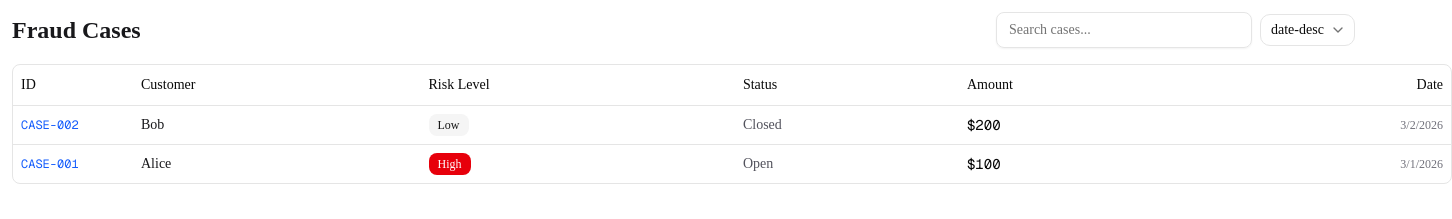
CaseList › shows "No cases found" when search has no matches
Step 1. Type "Nonexistent" into the field with placeholder "Search cases..." → (1124, 30), box [996,12,1252,48]
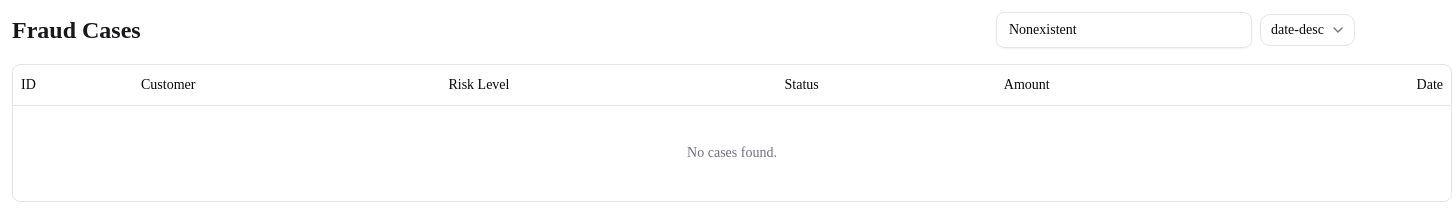
Expected: the text "No cases found." is shown, [13,105,1451,201]
Expected: the text "Alice" is gone
Expected: the text "Bob" is gone
